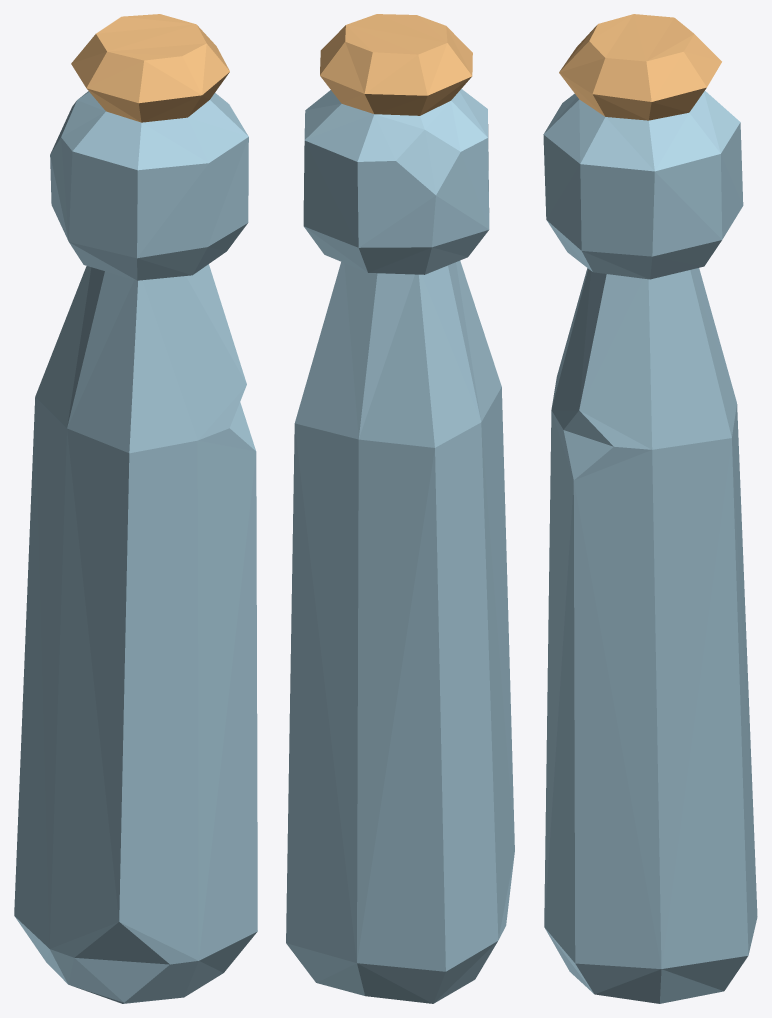
The model's file is Poison_003.fbx.
The picture shows the model from 3 angles, left to right: view 1: azimuth 30°, elevation 25°; view 2: azimuth 150°, elevation 25°; view 3: azimuth 270°, elevation 25°; orthographic projection.
Parts seen in each view (by area): view 1: Poison_003; view 2: Poison_003; view 3: Poison_003.
Part boxes in pixels (bbox=[...]): Poison_003: bbox=[14, 14, 257, 1003]; Poison_003: bbox=[286, 14, 514, 1003]; Poison_003: bbox=[543, 14, 757, 1003].
Size of the model in its own units: 0.0641 by 0.3069 by 0.0635.
